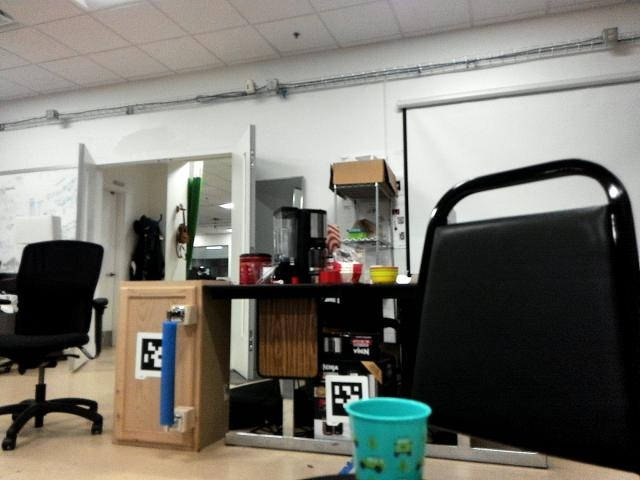coffee_cup: (340, 398, 432, 479)
